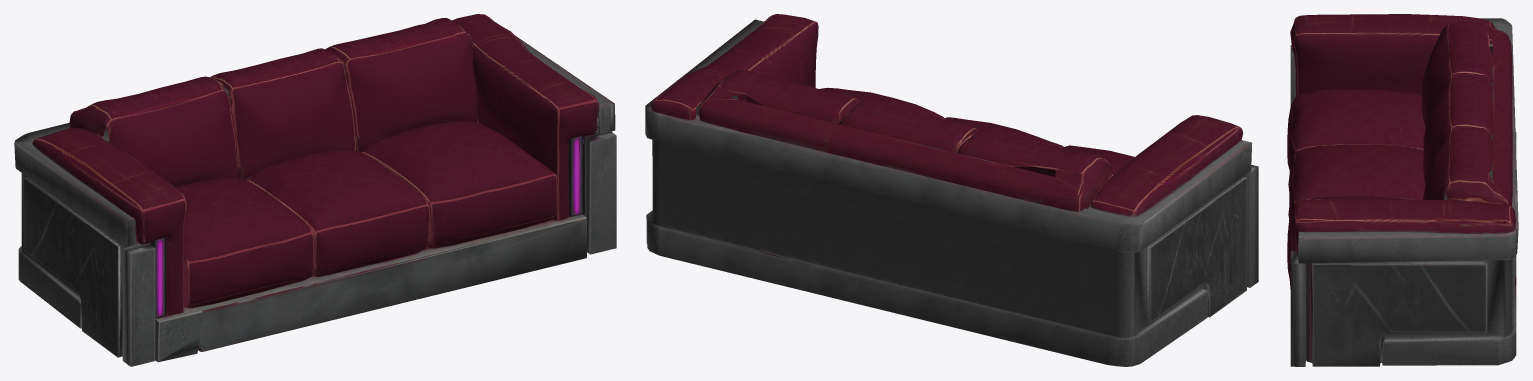
The model's file is sofa.glb.
3 renders of one model, left to right at view 1: azimuth 30°, elevation 25°; view 2: azimuth 150°, elevation 25°; view 3: azimuth 270°, elevation 25°, orthographic. The views are drawn at different scales.
Bounding box in the file's own units: 0.9561 × 0.3306 × 0.4238.
1 material, 1 textured.
